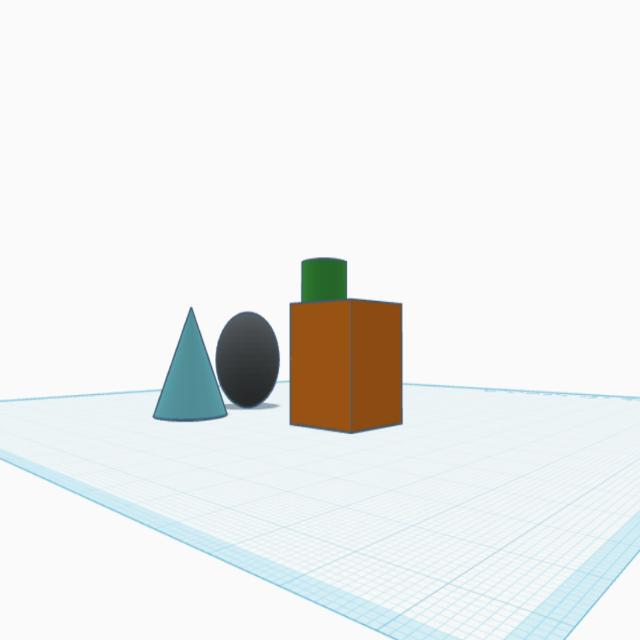cone: (150, 306, 230, 424)
cube: (288, 294, 405, 438)
sphere: (214, 301, 281, 412)
